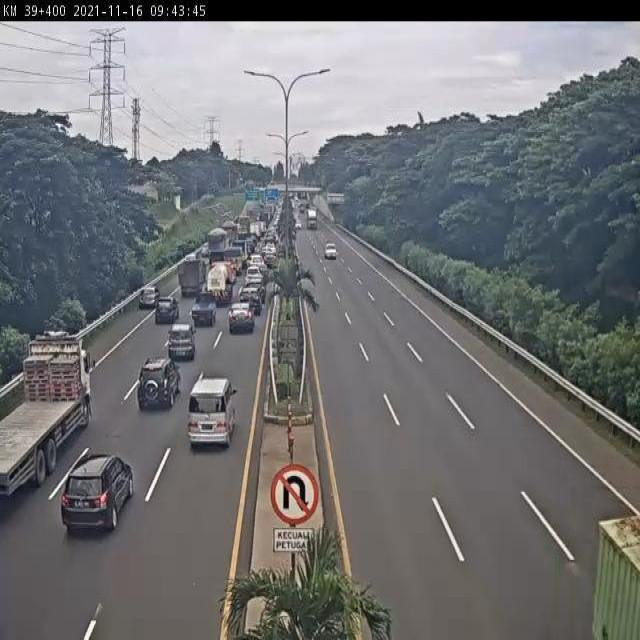car: (61, 453, 134, 532), (189, 378, 236, 450), (138, 356, 180, 408), (167, 324, 196, 363), (228, 302, 255, 338), (190, 295, 216, 329), (152, 297, 178, 327), (240, 288, 262, 315), (137, 287, 160, 309), (246, 279, 266, 300), (246, 265, 264, 284), (248, 254, 264, 266), (294, 220, 301, 229)
small truck: (223, 247, 242, 274), (325, 244, 337, 259)
truck-l-: (0, 338, 91, 493), (206, 261, 234, 307), (206, 230, 228, 266), (306, 208, 316, 227)
truck-m-: (178, 260, 205, 299)
